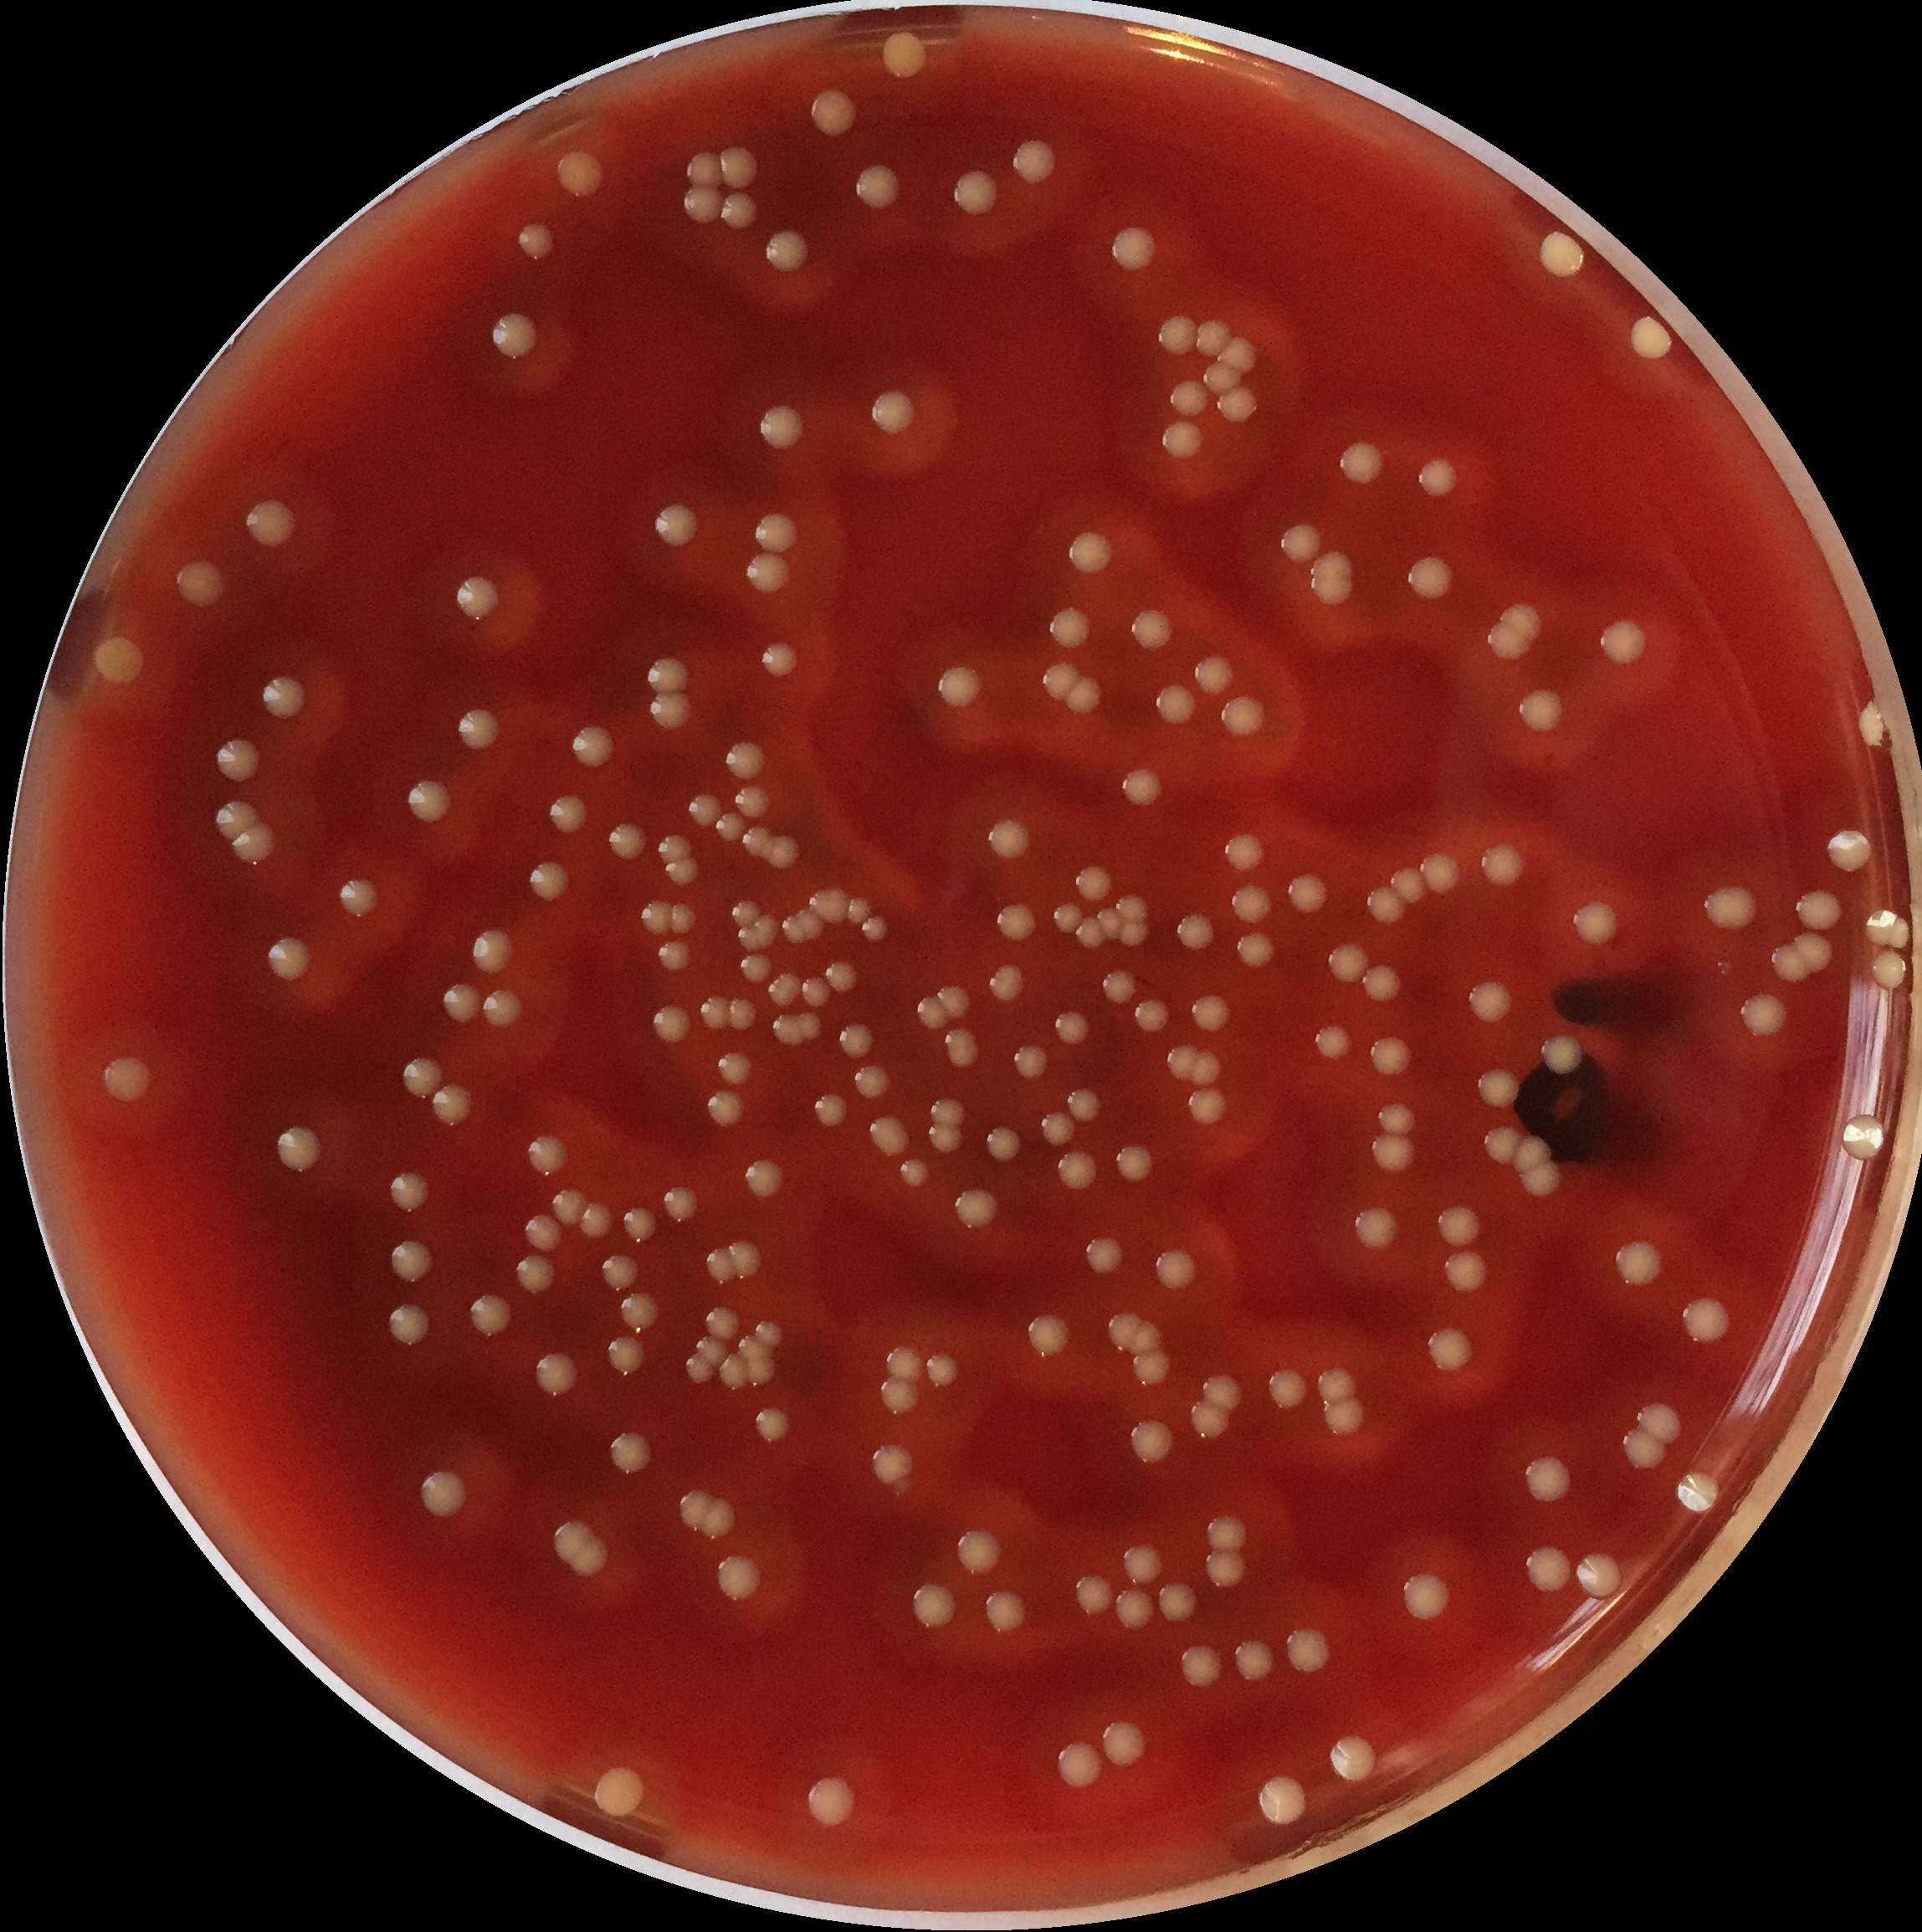sp21: (804, 1770, 862, 1833), (588, 1763, 649, 1821), (850, 160, 910, 216), (95, 1052, 155, 1109), (1698, 882, 1762, 934), (878, 28, 936, 84), (1350, 1202, 1410, 1256), (1679, 1293, 1735, 1350), (1521, 1452, 1579, 1506), (1051, 1737, 1105, 1795), (1255, 1770, 1309, 1828), (1399, 1571, 1457, 1626), (88, 635, 148, 688), (866, 387, 926, 440), (1537, 227, 1593, 282), (1403, 551, 1459, 605), (171, 554, 227, 609), (488, 310, 546, 362), (1123, 1418, 1177, 1473), (262, 933, 315, 989), (757, 401, 810, 457), (1734, 992, 1792, 1043), (1521, 1543, 1574, 1598), (711, 1552, 764, 1606), (1568, 897, 1625, 948), (952, 1526, 1003, 1582), (224, 818, 282, 867), (526, 855, 579, 908), (806, 88, 861, 139), (1625, 310, 1676, 364), (1325, 1737, 1380, 1788), (257, 672, 308, 727), (243, 496, 297, 547), (649, 500, 704, 551), (750, 507, 801, 561), (760, 225, 817, 274), (1170, 1642, 1227, 1691), (1278, 1624, 1334, 1673), (414, 1471, 470, 1520), (1334, 438, 1392, 486), (1107, 222, 1158, 274), (1823, 822, 1874, 875), (607, 1431, 660, 1482), (273, 1126, 326, 1177), (1116, 762, 1167, 815), (1477, 843, 1531, 892), (908, 1582, 963, 1631), (336, 866, 384, 922), (868, 1436, 915, 1492), (947, 1186, 1005, 1232), (1010, 135, 1061, 187), (1612, 1239, 1663, 1290), (1596, 616, 1649, 665), (1632, 1399, 1684, 1448), (1098, 1717, 1148, 1770), (454, 704, 507, 753), (554, 151, 609, 199), (1153, 308, 1200, 362), (1537, 1033, 1591, 1080), (1420, 1327, 1475, 1374), (1575, 1547, 1623, 1601), (532, 1351, 586, 1399), (1061, 530, 1118, 575), (1216, 695, 1273, 741), (1364, 1130, 1420, 1175), (1674, 1471, 1725, 1520), (1023, 1311, 1074, 1360), (745, 551, 794, 602), (1839, 1109, 1887, 1161), (510, 1251, 563, 1299), (523, 1131, 576, 1179), (567, 718, 614, 771), (1792, 889, 1846, 934), (1214, 831, 1271, 875), (1188, 313, 1237, 362), (980, 1587, 1030, 1636), (387, 1235, 436, 1284), (715, 148, 766, 195), (1471, 1065, 1522, 1112), (1054, 1145, 1102, 1197), (470, 926, 517, 977), (950, 171, 1000, 218), (1515, 684, 1565, 732), (1153, 684, 1202, 732), (1441, 1248, 1491, 1295), (405, 778, 454, 825), (720, 737, 769, 785), (1859, 906, 1910, 952), (1366, 1035, 1417, 1080), (385, 1302, 436, 1348), (209, 795, 260, 841), (1283, 873, 1336, 917), (1417, 850, 1464, 897), (1433, 1202, 1482, 1248), (1619, 1429, 1669, 1475), (1264, 1365, 1309, 1415), (1149, 1246, 1199, 1292), (1151, 1580, 1200, 1626), (880, 1341, 926, 1390), (385, 1170, 435, 1216), (211, 737, 260, 783), (454, 572, 500, 621), (1170, 911, 1221, 955), (1112, 1137, 1156, 1188), (1413, 456, 1461, 501), (1278, 521, 1324, 568), (1788, 927, 1836, 973), (1477, 1123, 1524, 1168), (429, 1082, 477, 1128), (648, 688, 695, 734), (1128, 605, 1174, 653), (512, 220, 561, 264), (1230, 931, 1280, 975), (1466, 980, 1515, 1024), (1318, 1395, 1368, 1439), (734, 1337, 778, 1387), (940, 1026, 984, 1075), (544, 792, 593, 836), (931, 665, 980, 709), (1482, 621, 1533, 663), (1308, 1022, 1359, 1065), (544, 1519, 595, 1561), (737, 1158, 789, 1200), (715, 188, 760, 234), (1163, 377, 1209, 422), (1188, 1397, 1234, 1443), (616, 1288, 662, 1334), (600, 1334, 646, 1379), (922, 1351, 968, 1397), (750, 1404, 797, 1448), (1126, 992, 1174, 1036), (401, 1052, 445, 1100), (646, 651, 693, 695), (1361, 885, 1410, 927), (1225, 882, 1274, 924), (1197, 1371, 1246, 1413), (866, 1116, 915, 1158), (1357, 962, 1403, 1006), (1111, 1584, 1155, 1629), (1229, 1638, 1273, 1684), (597, 1251, 642, 1295), (984, 818, 1030, 862), (648, 1003, 695, 1045), (760, 968, 808, 1010), (1206, 1550, 1255, 1591), (804, 887, 854, 927), (986, 957, 1026, 1006), (1311, 1365, 1364, 1402), (1119, 1541, 1163, 1585), (1204, 1511, 1248, 1555), (1190, 655, 1236, 697), (699, 1494, 741, 1540), (1082, 1232, 1125, 1277), (1068, 864, 1114, 906), (604, 820, 649, 862), (440, 978, 482, 1024), (1061, 674, 1104, 720), (1500, 598, 1547, 639), (1324, 940, 1371, 980), (1072, 1573, 1112, 1621), (847, 1063, 896, 1101), (1123, 1314, 1167, 1357), (658, 1184, 702, 1226), (701, 1087, 745, 1130), (480, 987, 525, 1029), (759, 639, 801, 683), (1047, 605, 1089, 649), (1037, 662, 1079, 706), (1214, 382, 1260, 422), (1375, 1101, 1420, 1142), (1507, 1135, 1554, 1174), (877, 1376, 924, 1415), (993, 903, 1040, 941), (1853, 699, 1889, 750), (725, 1235, 767, 1277), (549, 1184, 590, 1228), (521, 1211, 565, 1251), (980, 1123, 1024, 1163), (1051, 1006, 1091, 1050), (1188, 991, 1232, 1031), (1764, 945, 1809, 984), (468, 1295, 514, 1334), (1185, 1086, 1230, 1124), (685, 792, 730, 831), (1309, 574, 1357, 611), (681, 185, 723, 225), (1160, 421, 1204, 459), (1132, 1350, 1176, 1388), (576, 1197, 614, 1240), (810, 1093, 854, 1131), (1035, 1109, 1079, 1147), (1200, 362, 1246, 399), (1871, 947, 1908, 992), (649, 938, 697, 973), (701, 1304, 741, 1344), (716, 1045, 757, 1086), (737, 947, 778, 987), (620, 1204, 658, 1246), (838, 1019, 877, 1061), (683, 151, 727, 188), (678, 1485, 715, 1529), (1519, 1161, 1565, 1197), (572, 1541, 618, 1577), (1308, 547, 1355, 581), (1389, 866, 1427, 906), (699, 1246, 739, 1284), (1010, 1042, 1051, 1080), (637, 897, 676, 938), (732, 783, 773, 822), (1214, 336, 1258, 371), (1107, 1311, 1142, 1355), (797, 971, 836, 1010), (928, 1121, 968, 1158), (1100, 968, 1137, 1008), (1190, 1043, 1223, 1087), (928, 1094, 968, 1130), (722, 894, 762, 929), (667, 896, 702, 936), (1067, 1087, 1104, 1124), (695, 994, 732, 1031), (723, 994, 760, 1031), (771, 1012, 808, 1049), (690, 1332, 729, 1367), (910, 992, 949, 1028), (1049, 901, 1084, 940), (653, 829, 693, 862), (766, 836, 801, 873), (750, 911, 783, 950), (662, 855, 701, 889), (935, 984, 970, 1019), (1114, 889, 1149, 924), (716, 1355, 750, 1392), (896, 1158, 935, 1189), (1165, 1042, 1197, 1080), (1118, 917, 1153, 950), (827, 957, 859, 994), (1075, 911, 1107, 948), (737, 820, 767, 859), (752, 1316, 785, 1350), (681, 1353, 713, 1388), (1095, 906, 1126, 941), (796, 906, 825, 943), (709, 813, 746, 843), (857, 913, 891, 943), (843, 892, 871, 927), (734, 924, 762, 954), (797, 1010, 822, 1043), (781, 913, 806, 941)
